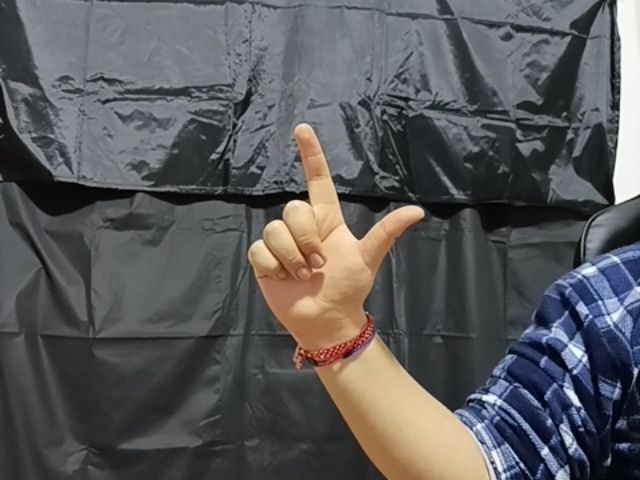L: (241, 123, 429, 319)
